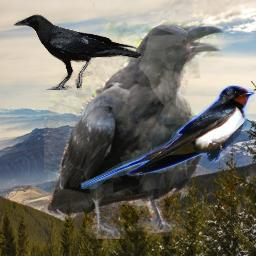Crow: (44, 22, 225, 239), (13, 13, 141, 90)
Swallow: (79, 85, 255, 189)
